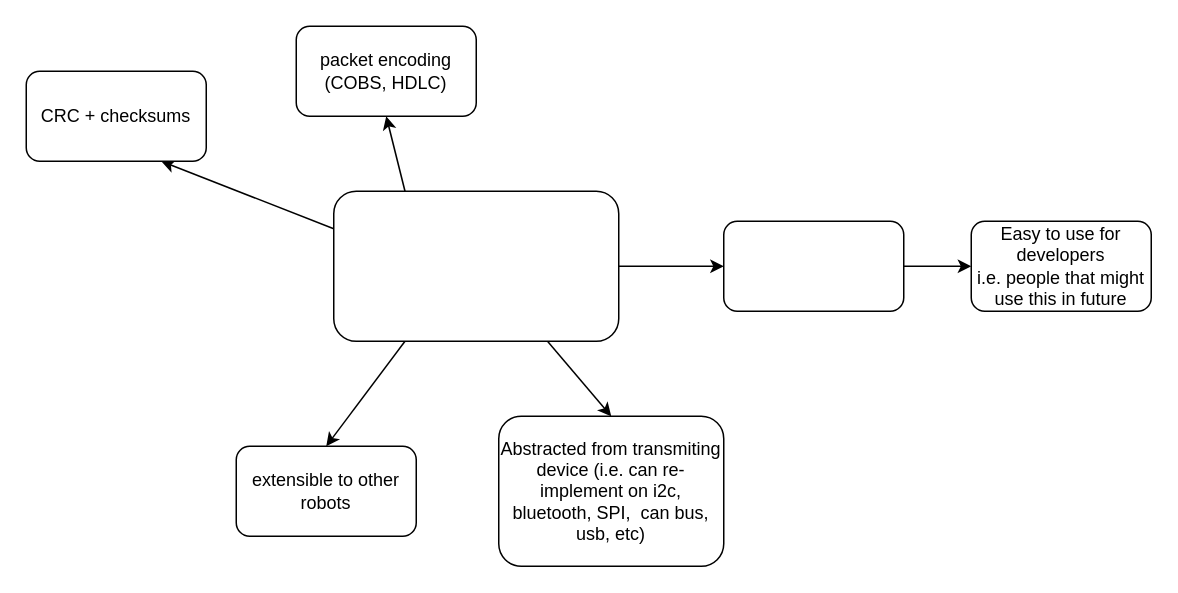
Image size: 1178x593. Some labels were removed from this diagram. The shapes that lost their labels are listed below. From the top down, each one's centre as x and y in pixels, then its label:
the point at 475,265: Comms design Features
the point at 813,265: Compiled into a library for C applications
